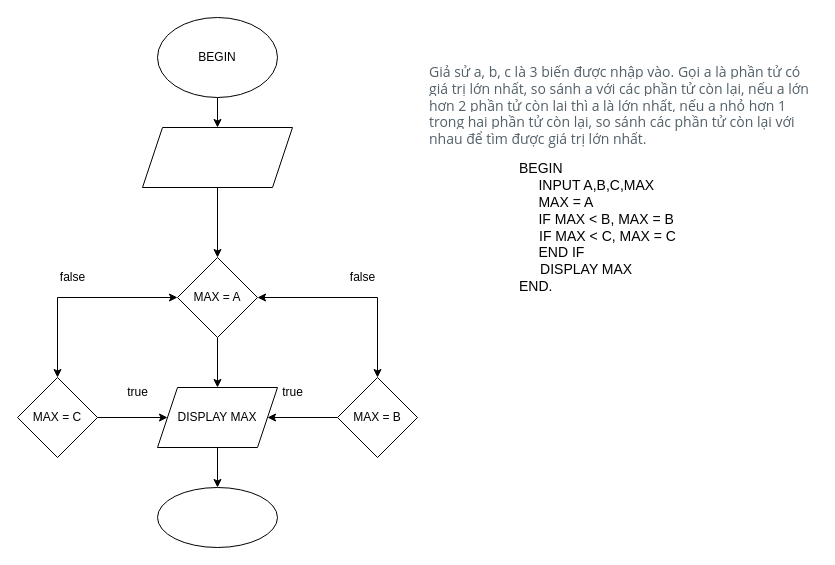
Image size: 835x565. Some labels were removed from this diagram. Here are the shapes that lost their labels. From the top down, the box of each, then its label:
(142, 126, 292, 188): INPUT: A, B, C,MAX
(156, 486, 278, 548): END
